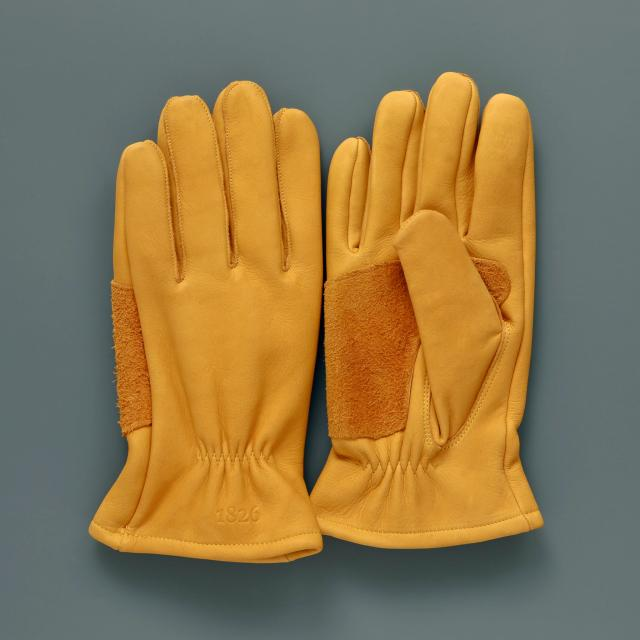gloves: (87, 79, 324, 564), (306, 72, 546, 546)
